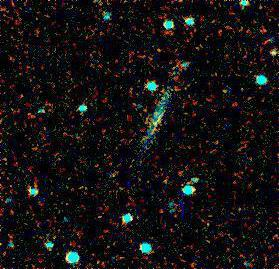star: (108, 170, 138, 200)
